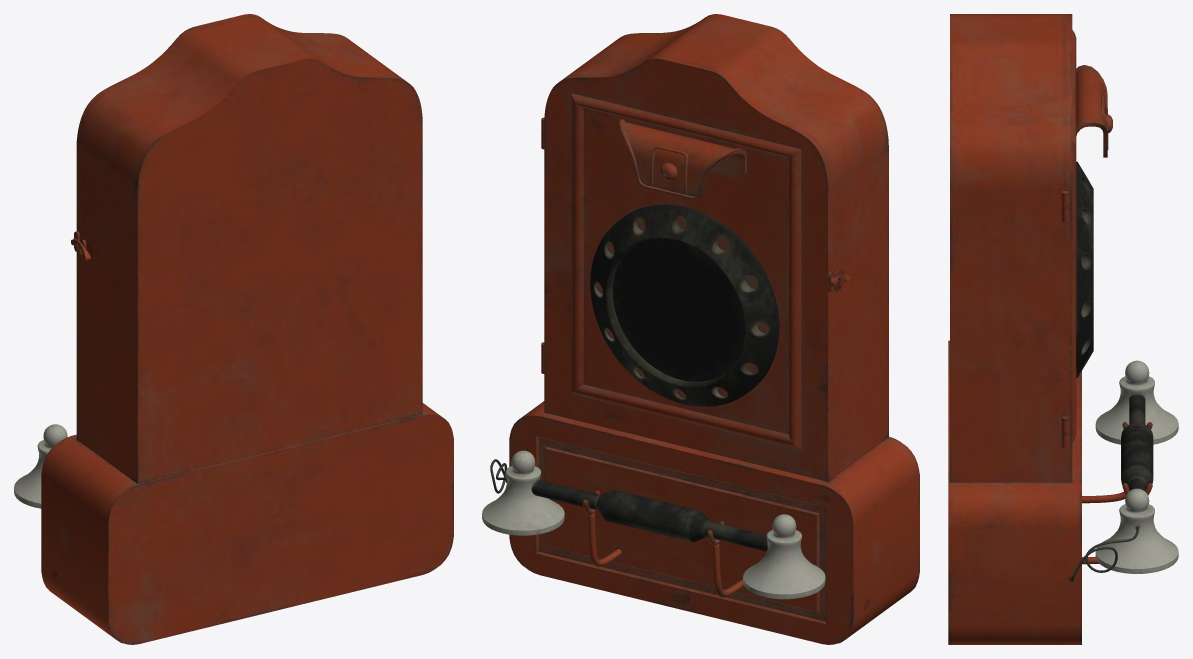
File: vintage_telephone_wall_clock.glb
The picture shows the model from 3 angles, left to right: view 1: azimuth 30°, elevation 25°; view 2: azimuth 150°, elevation 25°; view 3: azimuth 270°, elevation 25°; orthographic projection.
Visible parts, largest first — view 1: vintage_telephone_wall_clock; view 2: vintage_telephone_wall_clock; view 3: vintage_telephone_wall_clock.
Boxes of the visible parts, left/top/right/bottom form: vintage_telephone_wall_clock: left=14, top=14, right=453, bottom=644; vintage_telephone_wall_clock: left=482, top=14, right=919, bottom=644; vintage_telephone_wall_clock: left=948, top=14, right=1178, bottom=644.
Bounding box in the file's own units: 0.3428 × 0.5012 × 0.1926.
2 materials, 2 textured.
